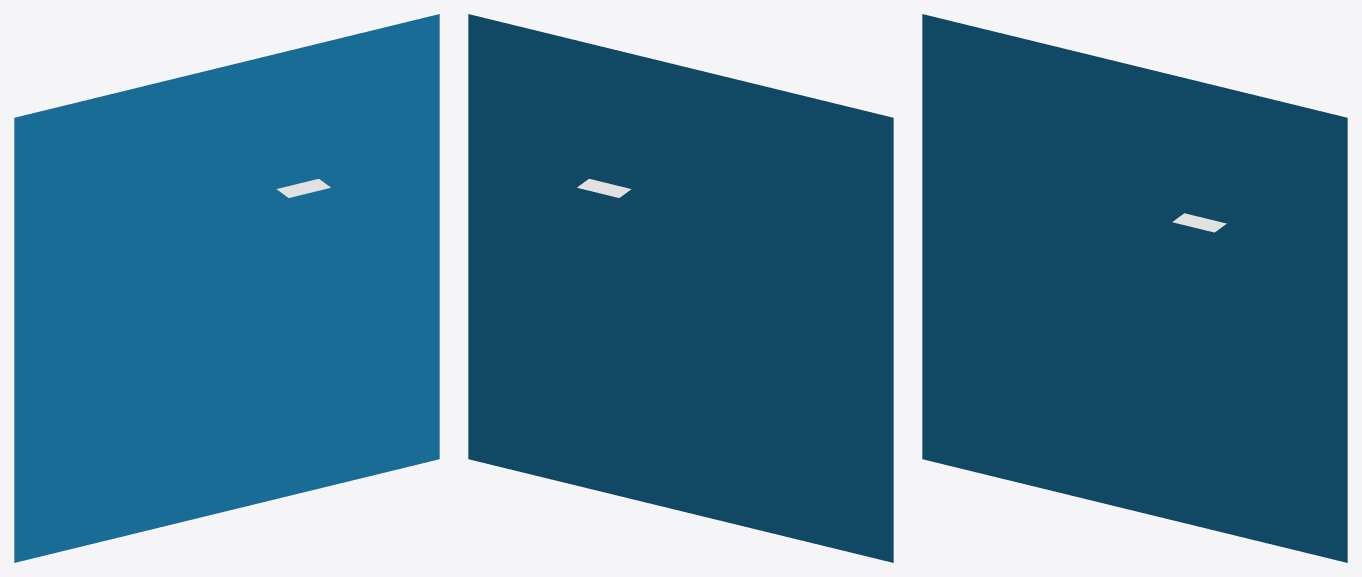
File: _Water.fbx
3 views of the same model, side by side, from view 1: azimuth 30°, elevation 25°; view 2: azimuth 150°, elevation 25°; view 3: azimuth 330°, elevation 25° (orthographic).
Visible parts, largest first — view 1: Plane, WaterMagic; view 2: Plane, WaterMagic; view 3: Plane, WaterMagic.
Part boxes in pixels (x1,y1,x2,y2): Plane: [14, 14, 439, 562]; WaterMagic: [276, 179, 330, 197]; Plane: [468, 14, 893, 562]; WaterMagic: [577, 179, 631, 197]; Plane: [922, 14, 1347, 562]; WaterMagic: [1172, 213, 1226, 232].
Bounding box in the file's own units: 100 × 100 × 10.
